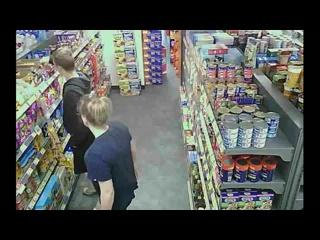shoplifting: (80, 95, 138, 210), (50, 46, 95, 176)
